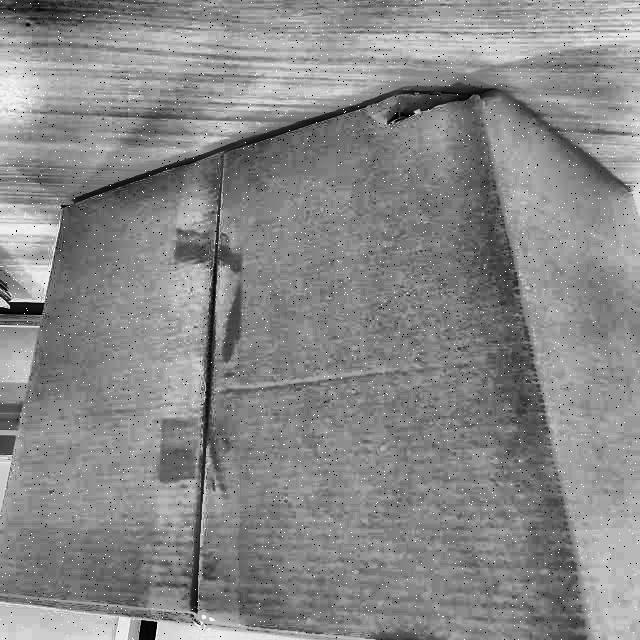box: (0, 73, 639, 640)
hole: (371, 83, 501, 129)
